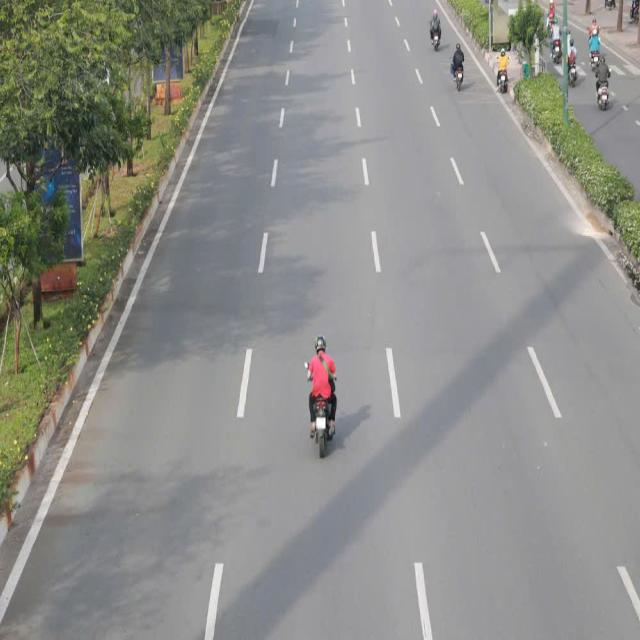motobyte: (298, 346, 344, 466), (596, 58, 614, 114), (452, 39, 469, 88), (426, 12, 444, 47), (496, 51, 510, 95), (568, 40, 582, 84), (551, 24, 563, 65), (589, 30, 598, 60), (590, 17, 599, 45), (549, 3, 555, 32)
